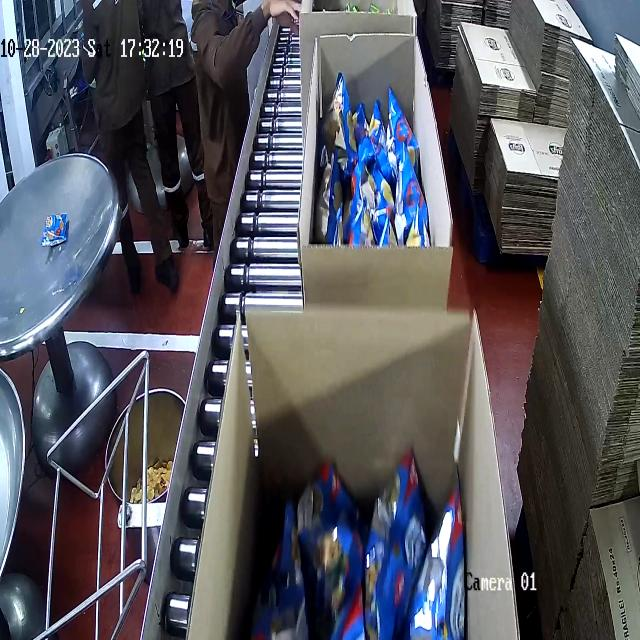PAPRIKA: (238, 445, 472, 632), (318, 75, 422, 258)
